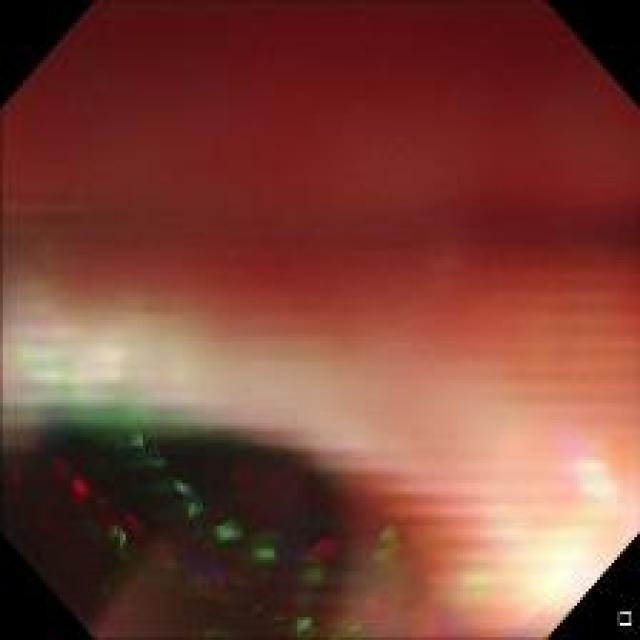blur: (2, 2, 635, 635)
color misalignment: (21, 409, 424, 638), (490, 419, 624, 604), (4, 306, 138, 398), (449, 551, 510, 612)
instrument: (68, 445, 355, 634)
saturation: (520, 530, 604, 615)
